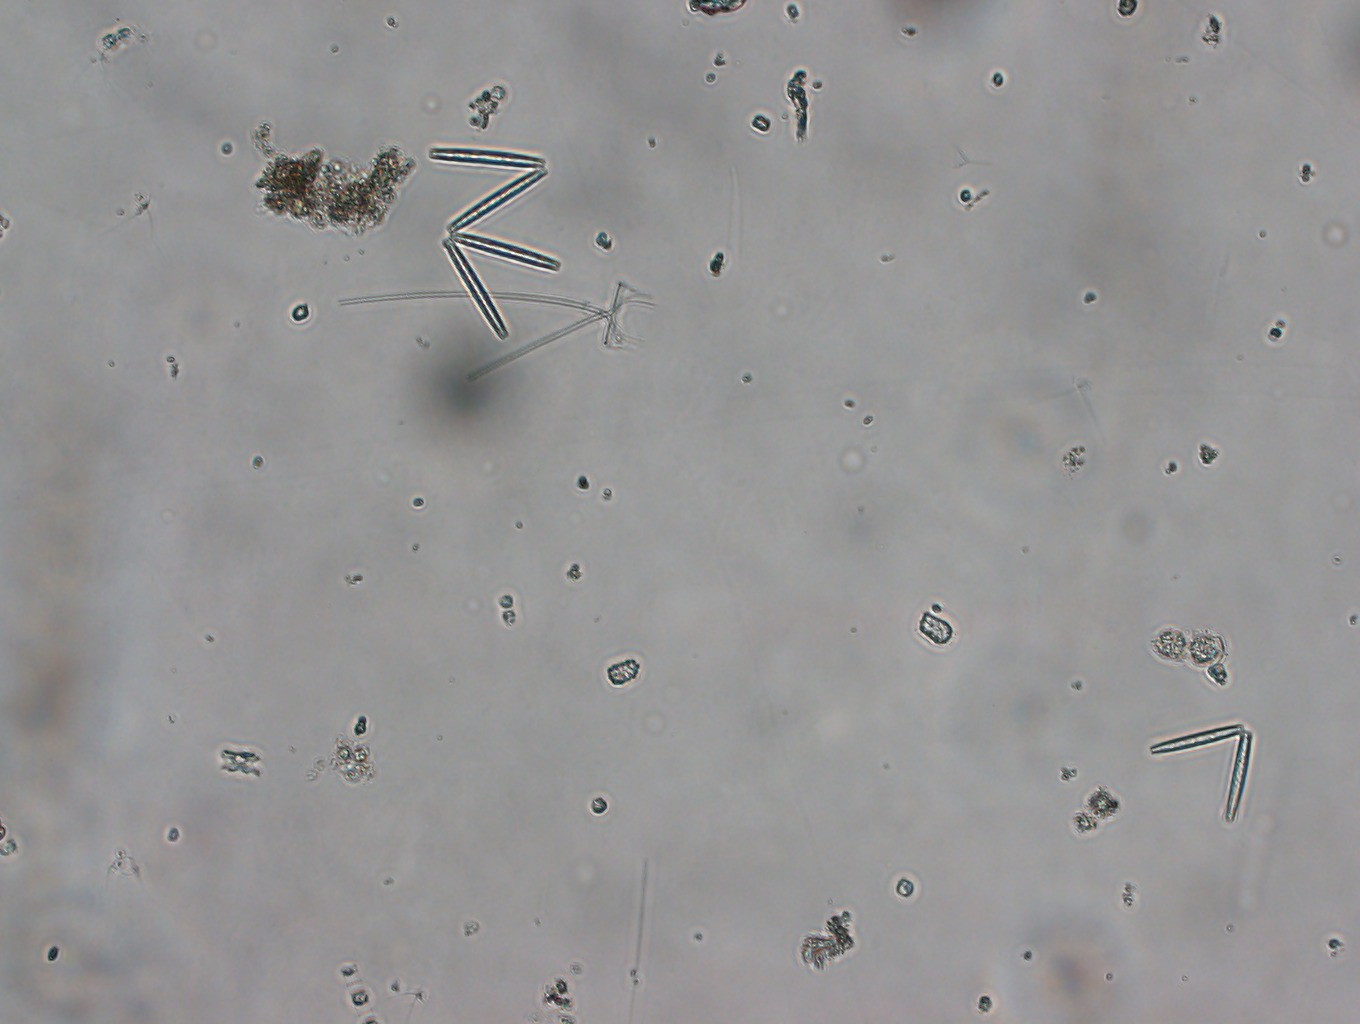thalassionema nitzschioides: (419, 133, 564, 341), (1146, 722, 1257, 830)
